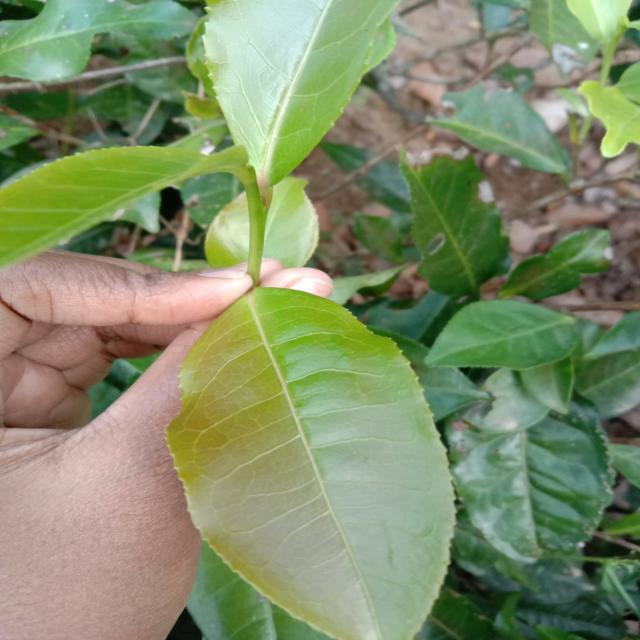Category C 4-7 days: (140, 251, 481, 640)
